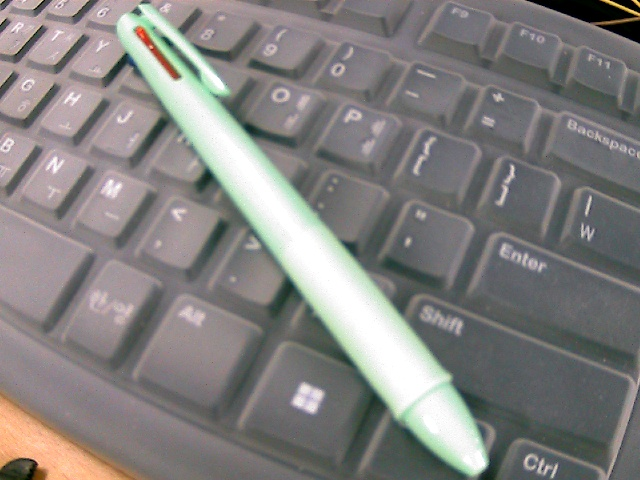pen: (103, 0, 498, 468)
